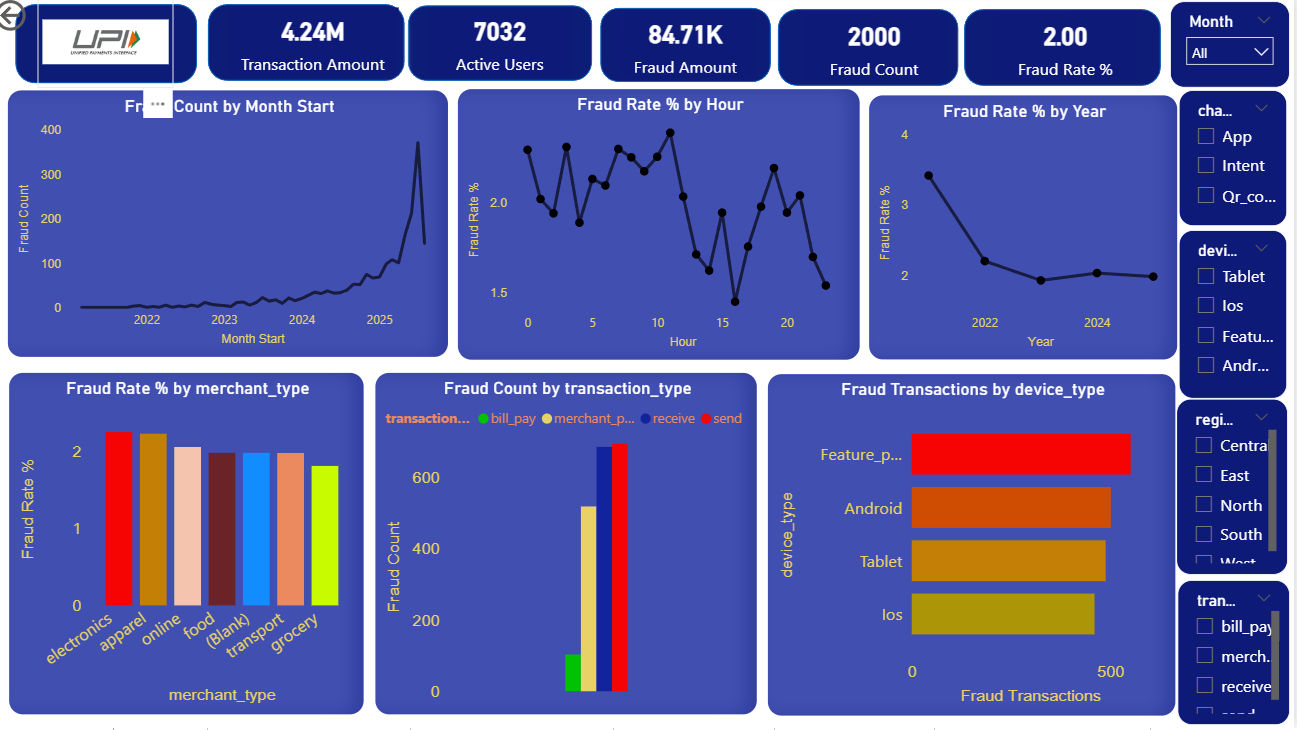

The page's visual inventory and layout, read from the dashboard file:
{"tool":"powerbi","page":{"name":"Fraud Analysis-1","canvas":[1280,720],"ordinal":3},"visuals":[{"type":"lineChart","fields":{"Y":["upi_transaction_history.Fraud Count"],"Category":["upi_transaction_history.Month Start"]},"box":[16,92,435.6,265],"z":0},{"type":"shape","box":[16,0,196.3,95.7],"z":1000},{"type":"lineChart","fields":{"Category":["upi_transaction_history.Month Start.Variation.Date Hierarchy.Year"],"Y":["upi_transaction_history.Fraud Rate"]},"box":[861.4,96.9,305.5,262.6],"z":2000},{"type":"shape","box":[947.2,4.9,211,93.3],"z":3000},{"type":"shape","box":[763.8,4.9,195.1,93.3],"z":4000},{"type":"image","box":[46.6,0,133.7,92],"z":5000},{"type":"slicer","fields":{"Values":["upi_transaction_history.device_type"]},"box":[1166.9,230.7,106.7,165.6],"z":6000},{"type":"shape","box":[589.6,3.7,185.3,90.8],"z":7000},{"type":"slicer","fields":{"Values":["upi_transaction_history.timestamp.Variation.Date Hierarchy.Month"]},"box":[1158.3,6.1,117.8,84.7],"z":8000},{"type":"slicer","fields":{"Values":["upi_transaction_history.channel"]},"box":[1166.9,93,106.7,133.7],"z":9000},{"type":"slicer","fields":{"Values":["customer_master.region"]},"box":[1164.4,396.3,109.2,173],"z":10000},{"type":"clusteredColumnChart","fields":{"Y":["upi_transaction_history.Fraud Count"],"Series":["upi_transaction_history.transaction_type"]},"box":[376.7,369.3,377.9,338.7],"z":11000},{"type":"card","fields":{"Values":["upi_transaction_history.Fraud Count"]},"box":[797.6,17.2,141.1,66.3],"z":12000},{"type":"card","fields":{"Values":["upi_transaction_history.Fraud Rate"]},"box":[985.4,17.2,141.1,66.3],"z":13000},{"type":"shape","box":[400.7,1.2,198.8,92],"z":14000},{"type":"shape","box":[204.9,0,211,93.3],"z":15000},{"type":"card","fields":{"Values":["upi_transaction_history.Fraud Amount"]},"box":[615.4,17.2,133.7,63.8],"z":16000},{"type":"card","fields":{"Values":["upi_transaction_history.Active Users"]},"box":[430.7,12.3,139.9,66.3],"z":17000},{"type":"card","fields":{"Values":["upi_transaction_history.Total Transaction Amount"]},"box":[233.1,12.3,168.1,66.3],"z":18000},{"type":"slicer","fields":{"Values":["upi_transaction_history.transaction_type"]},"box":[1165.7,574.2,110.4,142.3],"z":19000},{"type":"lineChart","fields":{"Y":["upi_transaction_history.Fraud Rate %"],"Category":["upi_transaction_history.Hour"]},"box":[457.7,90.8,397.5,268.7],"z":20000},{"type":"actionButton","box":[0,0,100,40],"z":21000},{"type":"clusteredColumnChart","fields":{"Category":["merchant_info.merchant_type"],"Y":["upi_transaction_history.Fraud Rate %"]},"box":[17.2,369.3,350.9,338.7],"z":22000},{"type":"clusteredBarChart","fields":{"Category":["upi_transaction_history.device_type"],"Y":["upi_transaction_history.Fraud Transactions"]},"box":[761.4,370,402.9,338.6],"z":23000}]}

Visuals, with their boxes in screenshot pixels (x1, y1, x2, y2), scaled from the page's 1280x720 canvas onto the 1297x730 screenshot:
lineChart - upi_transaction_history.Fraud Count x upi_transaction_history.Month Start: rect(16, 93, 458, 362)
shape: rect(16, 0, 215, 97)
lineChart - upi_transaction_history.Month Start.Variation.Date Hierarchy.Year x upi_transaction_history.Fraud Rate: rect(873, 98, 1182, 364)
shape: rect(960, 5, 1174, 100)
shape: rect(774, 5, 972, 100)
image: rect(47, 0, 183, 93)
slicer - upi_transaction_history.device_type: rect(1182, 234, 1291, 402)
shape: rect(597, 4, 785, 96)
slicer - upi_transaction_history.timestamp.Variation.Date Hierarchy.Month: rect(1174, 6, 1293, 92)
slicer - upi_transaction_history.channel: rect(1182, 94, 1291, 230)
slicer - customer_master.region: rect(1180, 402, 1291, 577)
clusteredColumnChart - upi_transaction_history.Fraud Count x upi_transaction_history.transaction_type: rect(382, 374, 765, 718)
card - upi_transaction_history.Fraud Count: rect(808, 17, 951, 85)
card - upi_transaction_history.Fraud Rate: rect(998, 17, 1141, 85)
shape: rect(406, 1, 607, 94)
shape: rect(208, 0, 421, 95)
card - upi_transaction_history.Fraud Amount: rect(624, 17, 759, 82)
card - upi_transaction_history.Active Users: rect(436, 12, 578, 80)
card - upi_transaction_history.Total Transaction Amount: rect(236, 12, 407, 80)
slicer - upi_transaction_history.transaction_type: rect(1181, 582, 1293, 726)
lineChart - upi_transaction_history.Fraud Rate % x upi_transaction_history.Hour: rect(464, 92, 867, 364)
actionButton: rect(0, 0, 101, 41)
clusteredColumnChart - merchant_info.merchant_type x upi_transaction_history.Fraud Rate %: rect(17, 374, 373, 718)
clusteredBarChart - upi_transaction_history.device_type x upi_transaction_history.Fraud Transactions: rect(772, 375, 1180, 718)
